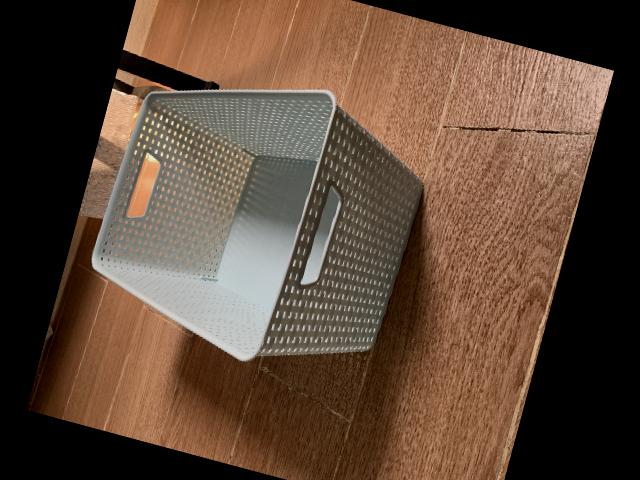cart: (92, 87, 425, 362)
